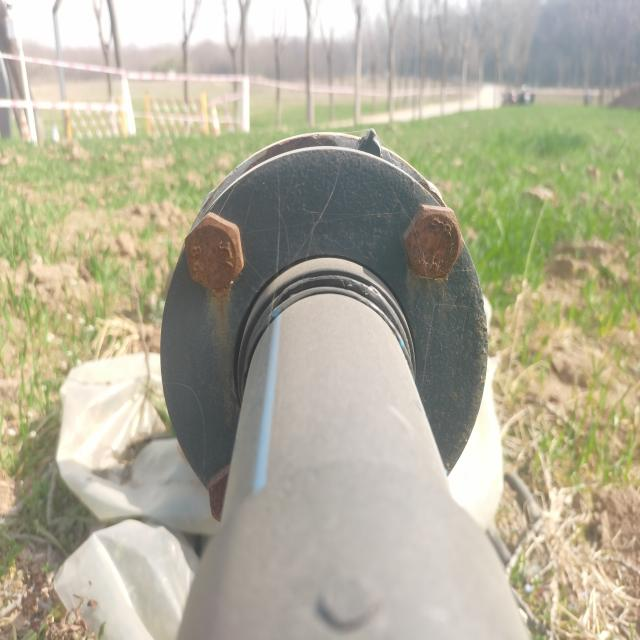bolt head: (184, 210, 246, 292), (402, 203, 464, 279)
